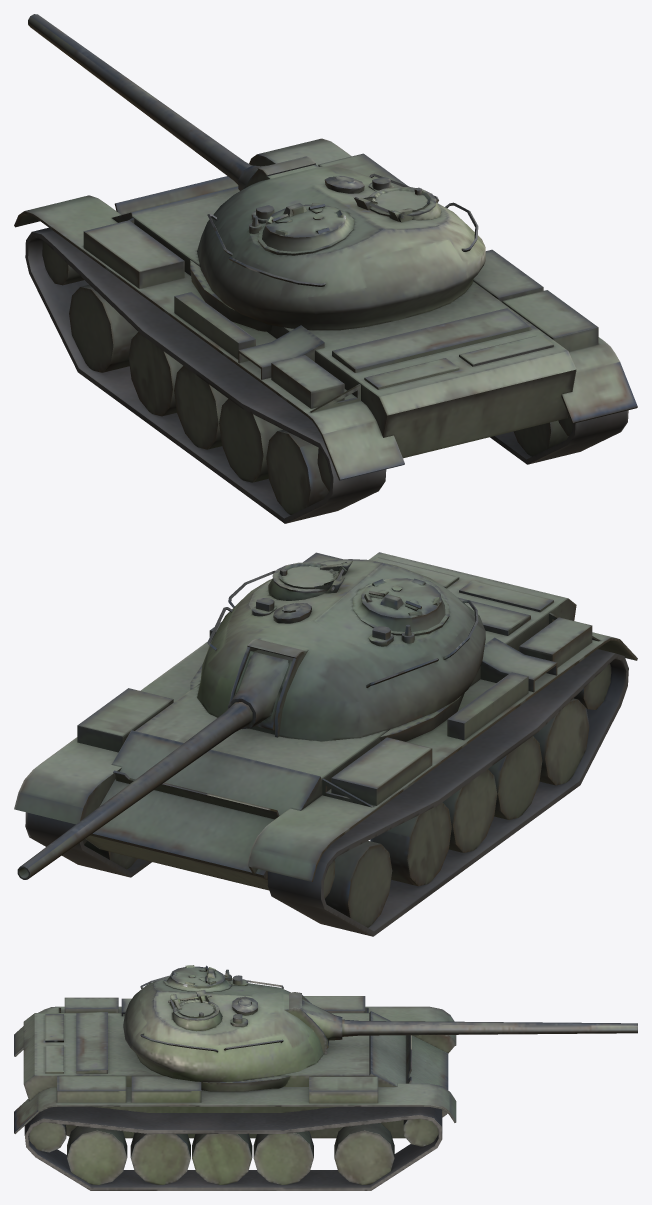
3 renders of one model, top to bottom at view 1: azimuth 30°, elevation 25°; view 2: azimuth 150°, elevation 25°; view 3: azimuth 270°, elevation 25°, orthographic. The views are drawn at different scales.
Visible parts, largest first — view 1: T-54 Hull, T-54 Turret; view 2: T-54 Hull, T-54 Turret; view 3: T-54 Hull, T-54 Turret.
Part boxes in pixels (<box>): T-54 Hull: <box>14,138,637,523</box>; T-54 Turret: <box>28,14,485,330</box>; T-54 Hull: <box>14,552,637,936</box>; T-54 Turret: <box>17,559,485,879</box>; T-54 Hull: <box>14,996,456,1190</box>; T-54 Turret: <box>123,965,637,1082</box>.
Bounding box in the file's own units: 3.27 × 2.4 × 8.74.
